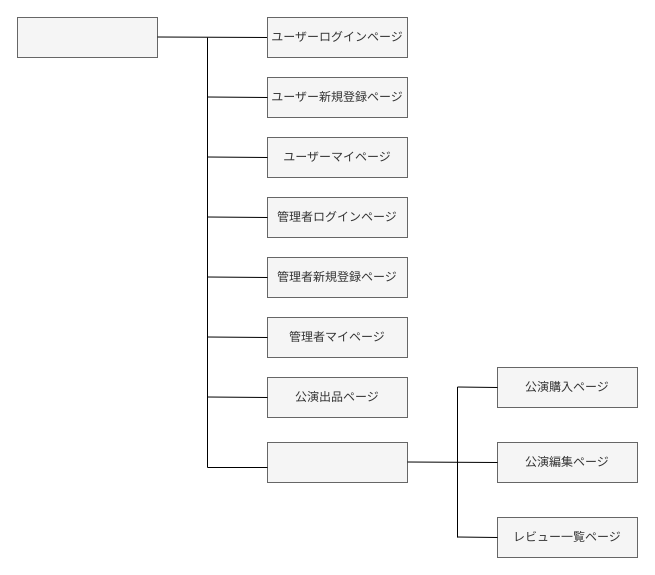
Some shapes in this 655 by 575 pixel diagram are drawn without their labels. Here are the shapes that lost their labels. From the top down, the centre of each, then its label:
At point 87,37: "公演一覧ページ".
At point 337,462: "公演詳細ページ".
